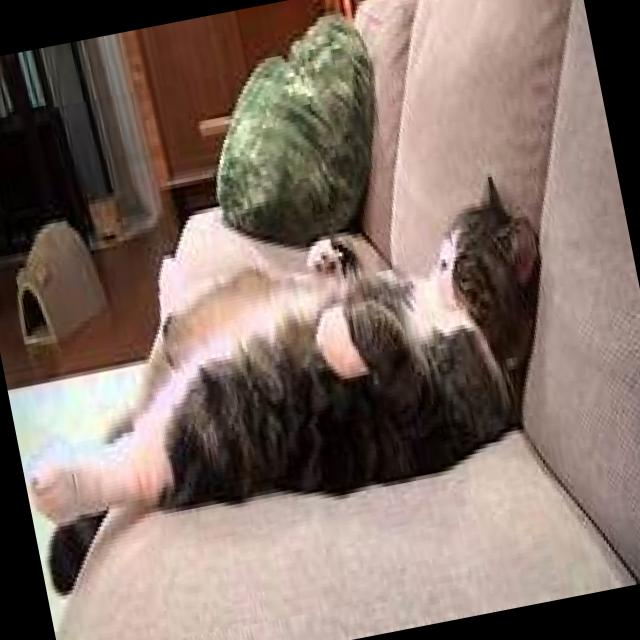cat: (0, 165, 590, 597)
